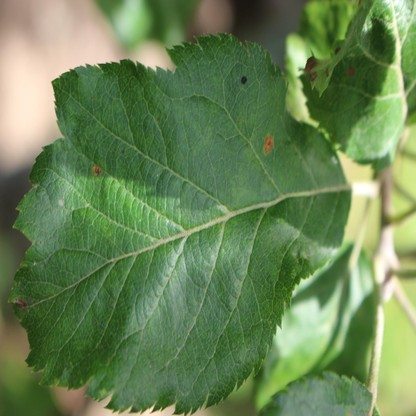rust: (264, 136, 272, 154), (92, 163, 102, 177), (348, 65, 356, 77)
